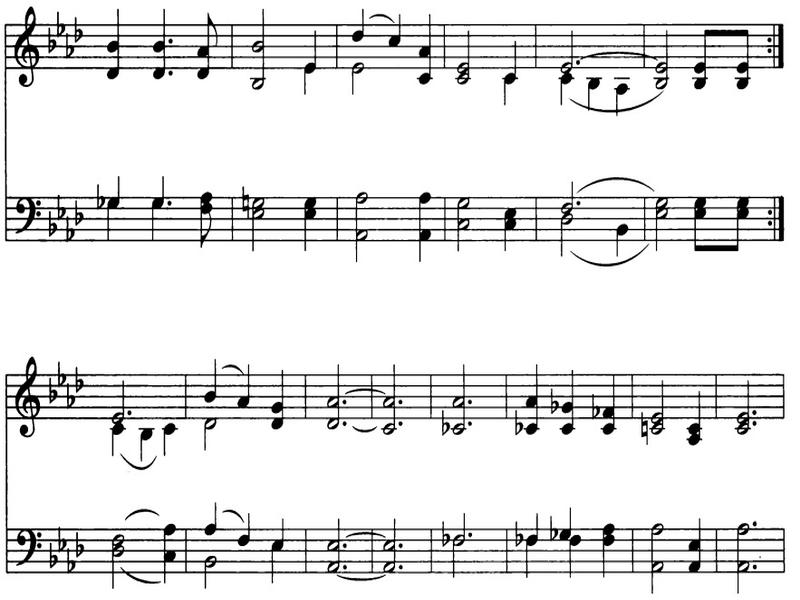B: (350, 176, 378, 274), (245, 4, 274, 98), (312, 512, 343, 583), (451, 19, 481, 87), (648, 21, 678, 89), (727, 366, 751, 439), (380, 355, 400, 440), (647, 517, 667, 599), (547, 211, 577, 259), (651, 189, 670, 259), (327, 355, 343, 437), (198, 415, 227, 460), (733, 514, 748, 595), (106, 526, 126, 586), (106, 367, 127, 423), (453, 357, 467, 438), (560, 15, 579, 73), (381, 512, 398, 576), (457, 187, 471, 263), (248, 192, 267, 248), (195, 552, 222, 586), (653, 382, 669, 434), (450, 503, 467, 551), (340, 63, 365, 94), (451, 532, 465, 581), (560, 175, 577, 215)
Bem: (513, 408, 528, 455), (50, 4, 69, 37), (44, 377, 62, 411), (57, 388, 79, 415), (51, 194, 71, 223), (43, 206, 58, 244), (58, 550, 77, 575), (57, 36, 74, 63), (56, 517, 69, 552), (71, 364, 87, 391), (55, 367, 72, 392), (67, 16, 82, 43), (589, 390, 604, 417), (437, 521, 452, 548), (56, 223, 77, 242), (42, 27, 57, 53), (544, 384, 557, 414), (437, 412, 450, 439), (72, 535, 86, 559), (49, 542, 59, 569), (73, 204, 83, 225), (50, 223, 55, 224)
C: (680, 24, 719, 94), (192, 6, 222, 87), (727, 194, 757, 261), (730, 24, 755, 93), (194, 185, 217, 257), (693, 192, 708, 260)
CF: (14, 515, 43, 577), (14, 184, 41, 250)
CS: (5, 345, 49, 454), (13, 1, 44, 96)
N: (410, 1, 439, 88), (97, 3, 124, 86), (682, 510, 713, 579), (147, 1, 171, 79), (680, 384, 707, 445), (300, 191, 324, 259), (265, 360, 286, 432), (200, 346, 227, 401), (497, 34, 527, 83), (298, 19, 326, 70), (413, 183, 431, 259), (496, 204, 520, 256), (108, 164, 138, 205), (547, 74, 582, 109), (565, 365, 582, 436), (264, 538, 290, 584), (525, 364, 540, 439), (604, 369, 620, 438), (161, 520, 178, 584), (603, 521, 619, 585), (346, 1, 370, 43), (520, 534, 545, 574), (496, 73, 523, 110), (99, 195, 120, 242), (526, 499, 547, 546), (583, 77, 607, 116), (149, 163, 167, 214), (568, 524, 585, 578), (161, 419, 182, 462), (387, 3, 407, 48), (199, 495, 219, 539), (294, 56, 317, 94), (147, 196, 164, 240), (238, 512, 257, 550), (564, 485, 577, 540), (267, 517, 288, 551), (239, 364, 252, 414), (135, 426, 154, 460), (614, 83, 632, 116), (110, 424, 125, 459), (616, 221, 623, 254)
P: (337, 536, 358, 553), (124, 405, 139, 427), (340, 557, 354, 580), (395, 537, 415, 552), (395, 556, 410, 576), (764, 219, 780, 236), (396, 417, 412, 434), (748, 514, 761, 534), (337, 412, 352, 429), (163, 67, 179, 82), (746, 407, 762, 422), (395, 395, 407, 414), (337, 394, 352, 409), (164, 197, 178, 213), (466, 396, 478, 414), (752, 419, 767, 433), (749, 564, 762, 580), (163, 36, 174, 54), (759, 36, 772, 50), (465, 416, 476, 432), (467, 531, 480, 544), (763, 206, 777, 218), (576, 194, 584, 210), (767, 47, 775, 60), (573, 56, 581, 68)
SOS: (230, 180, 251, 222), (638, 408, 649, 447)
